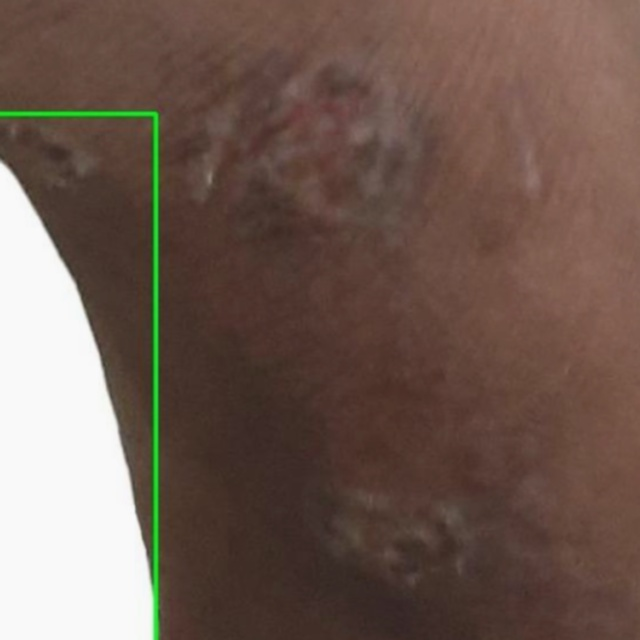Eczema: (0, 113, 156, 639)
